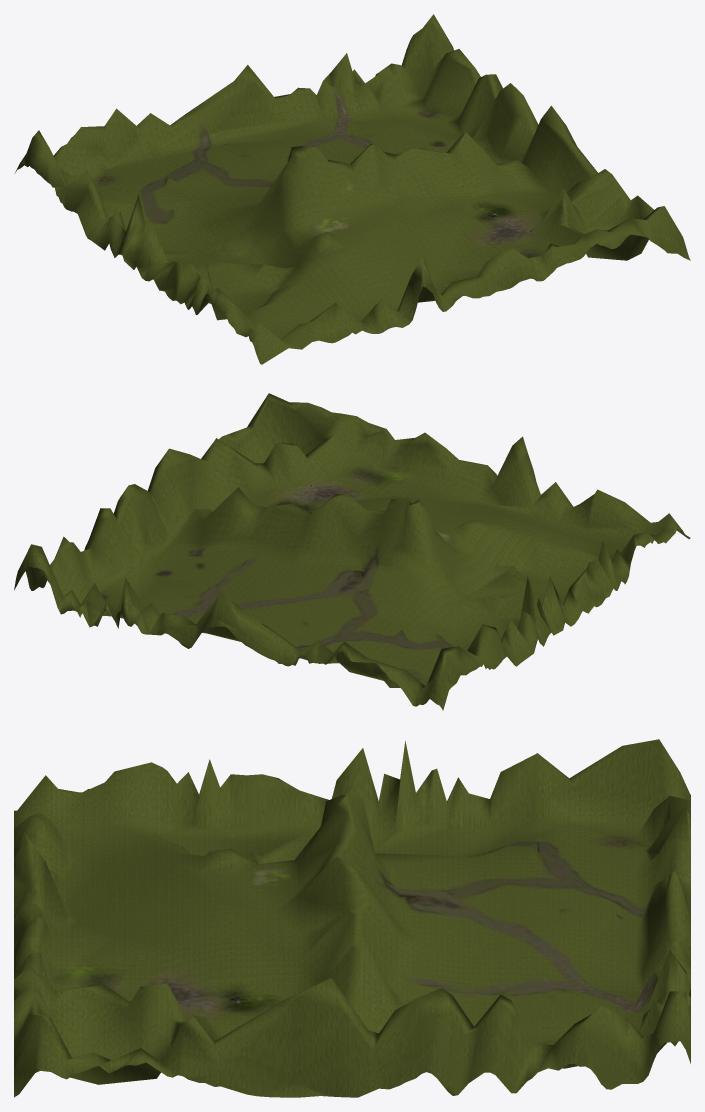
3 renders of one model, top to bottom at view 1: azimuth 30°, elevation 25°; view 2: azimuth 150°, elevation 25°; view 3: azimuth 270°, elevation 25°, orthographic. The views are drawn at different scales.
Parts seen in each view (by area): view 1: Mesh; view 2: Mesh; view 3: Mesh.
Part boxes in pixels (x1,y1,x2,y2): Mesh: (15,14,690,364); Mesh: (14,393,690,710); Mesh: (14,739,690,1097).
Size of the model in its own units: 150 by 30.58 by 150.
1 material, 1 textured.
